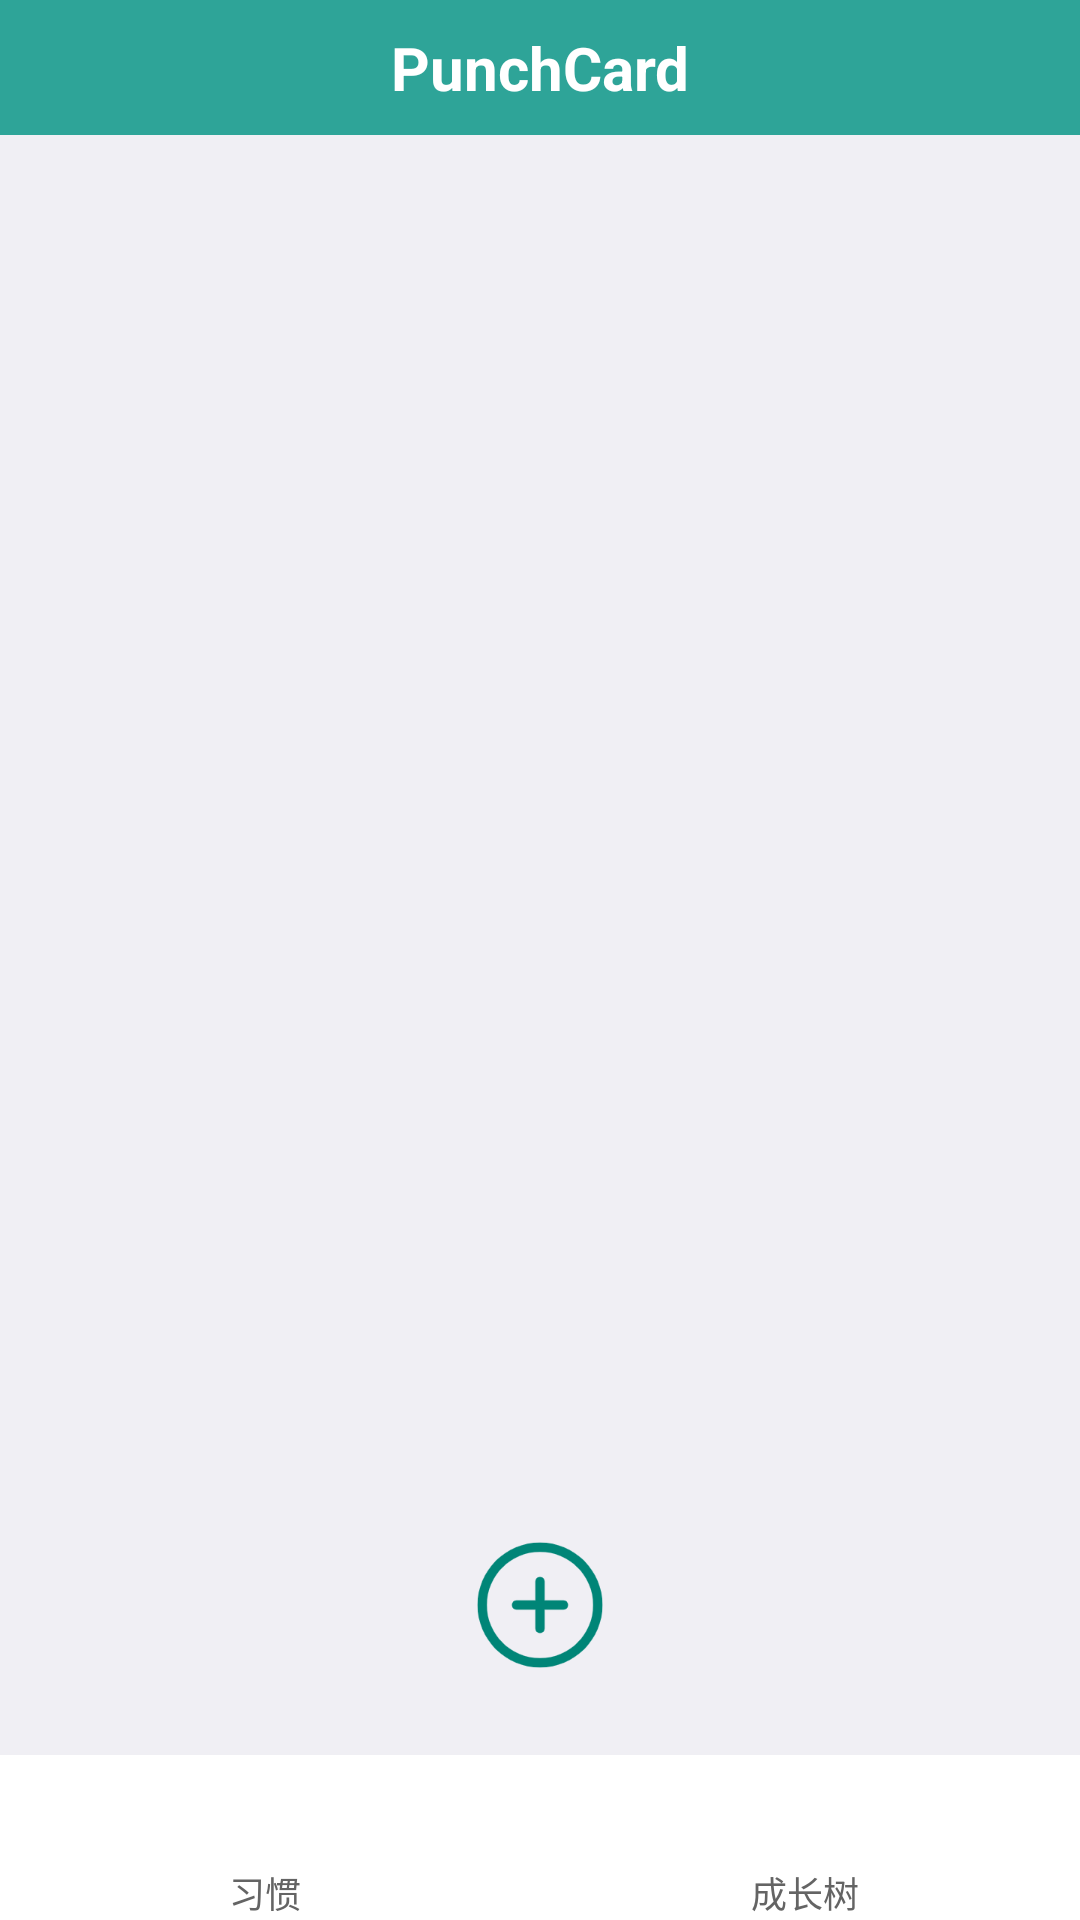

Locate icon controls on the screen. Image size 1080 x 1920, boxes as (x1, y1, x2, y2).
add: (477, 1542, 603, 1668)
